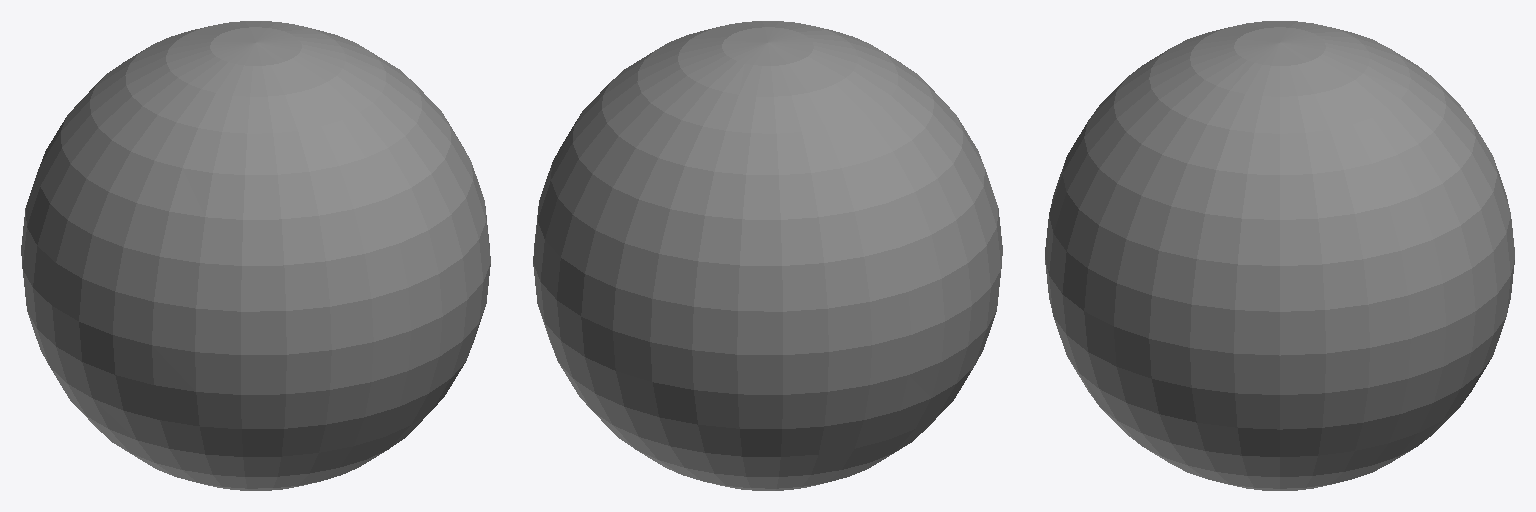
Rendered from sun.obj.
3 renders of one model, left to right at view 1: azimuth 30°, elevation 25°; view 2: azimuth 150°, elevation 25°; view 3: azimuth 270°, elevation 25°, orthographic.
Visible parts, largest first — view 1: Sphere001; view 2: Sphere001; view 3: Sphere001.
Boxes of the visible parts, <box> form: Sphere001: <box>21,21,490,490</box>; Sphere001: <box>533,21,1002,490</box>; Sphere001: <box>1045,21,1514,490</box>.
Bounding box in the file's own units: 2 × 2 × 2.